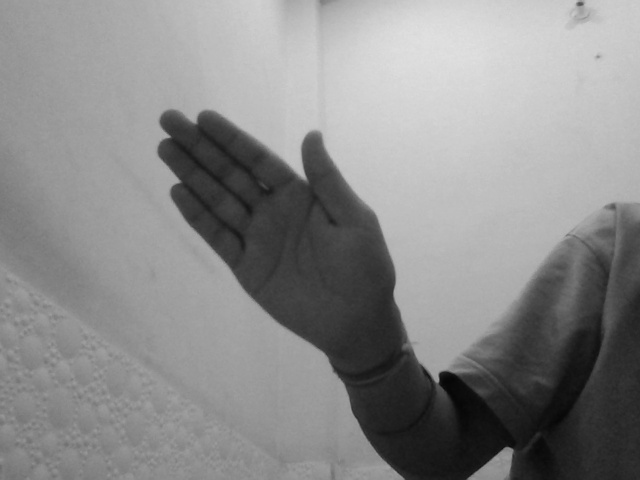Hello: (154, 105, 402, 341)
